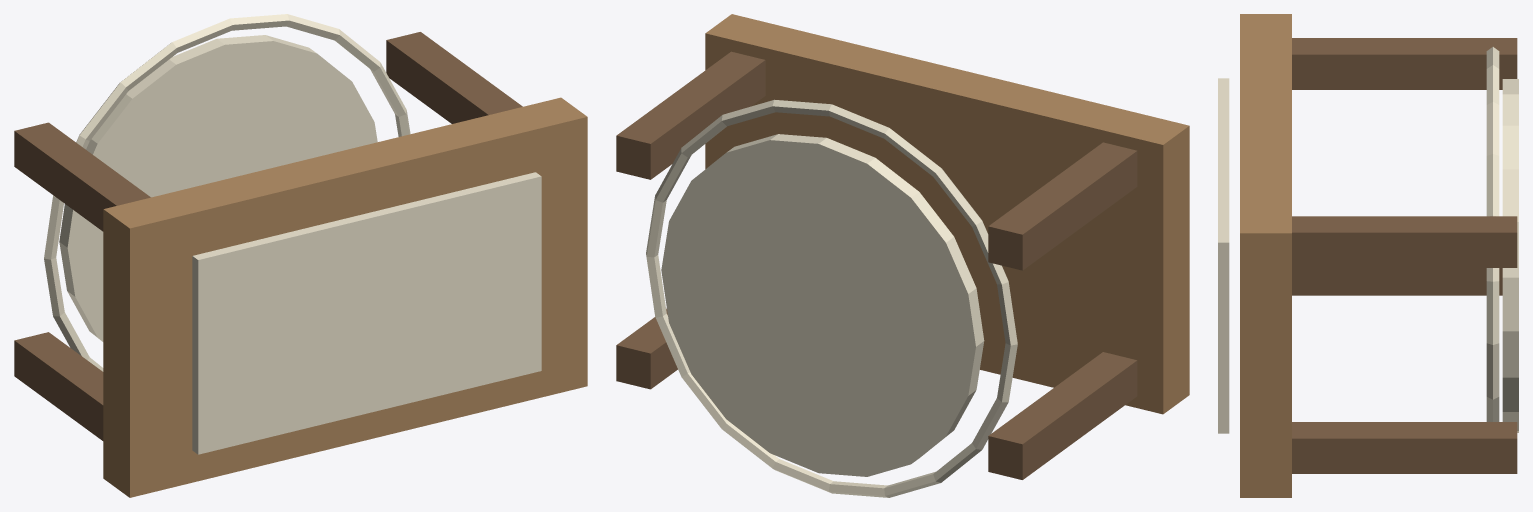
File: 08_ancient_map_table.glb
3 views of the same model, side by side, from view 1: azimuth 30°, elevation 25°; view 2: azimuth 150°, elevation 25°; view 3: azimuth 270°, elevation 25° (orthographic).
Parts seen in each view (by area): view 1: table_top, map, base_disc, base_ring, leg_3, leg_4, leg_1; view 2: base_disc, table_top, base_ring, leg_3, leg_1, leg_4, leg_2; view 3: table_top, leg_2, leg_4, leg_3, leg_1, base_disc, base_ring, map.
Part boxes in pixels (left/top/right/bottom): table_top: left=103, top=97, right=587, bottom=497; map: left=192, top=172, right=541, bottom=454; base_disc: left=59, top=35, right=377, bottom=341; base_ring: left=44, top=14, right=410, bottom=371; leg_3: left=14, top=122, right=150, bottom=231; leg_4: left=386, top=32, right=522, bottom=123; leg_1: left=14, top=332, right=103, bottom=440; base_disc: left=661, top=134, right=984, bottom=476; table_top: left=705, top=14, right=1189, bottom=414; base_ring: left=646, top=99, right=1017, bottom=497; leg_3: left=988, top=142, right=1137, bottom=270; leg_1: left=988, top=352, right=1137, bottom=479; leg_4: left=616, top=51, right=765, bottom=179; leg_2: left=616, top=308, right=677, bottom=389; table_top: left=1240, top=14, right=1291, bottom=497; leg_2: left=1292, top=422, right=1517, bottom=473; leg_4: left=1292, top=216, right=1517, bottom=267; leg_3: left=1292, top=38, right=1517, bottom=89; leg_1: left=1292, top=268, right=1502, bottom=295; base_disc: left=1502, top=79, right=1518, bottom=432; base_ring: left=1486, top=47, right=1499, bottom=421; map: left=1218, top=78, right=1229, bottom=433.
Size of the model in its own units: 1.6 by 1.3 by 0.9275.
